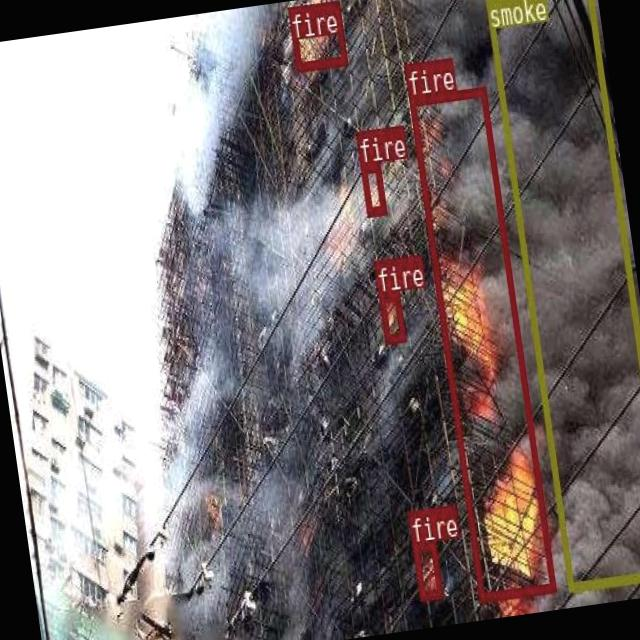fire: (408, 86, 554, 600), (286, 0, 346, 70), (412, 540, 443, 599), (359, 162, 385, 215), (378, 292, 405, 342)
smoke: (483, 0, 640, 590)
